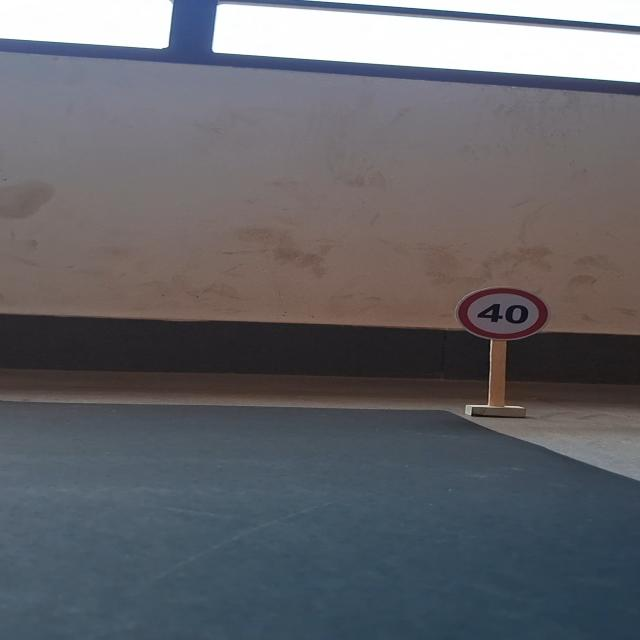Speed40: (455, 284, 553, 342)
